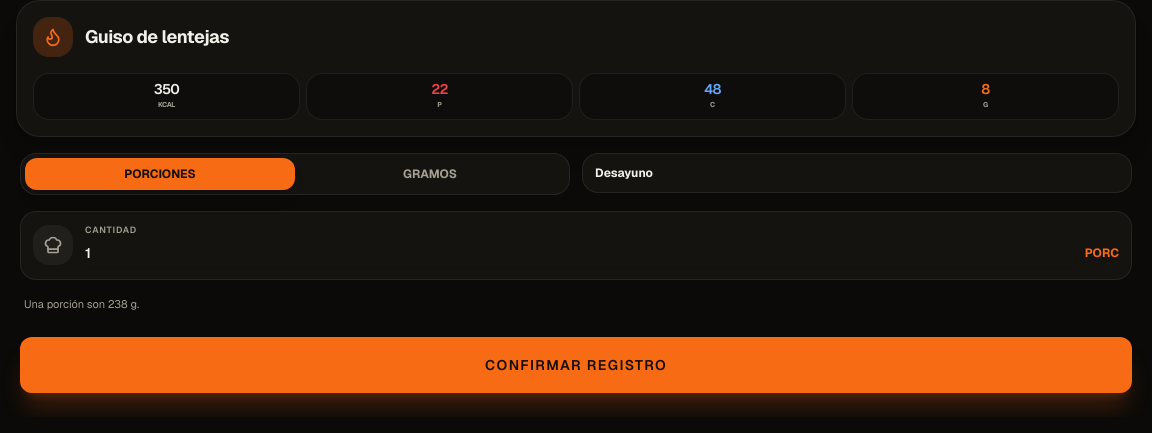
it: RecipeAmountStep › keeps the same real amount of food when the unit switches to grams
Step 1. Replace the text in the number field named "Cantidad" with "2" → (581, 253), box [85,239,1077,267]
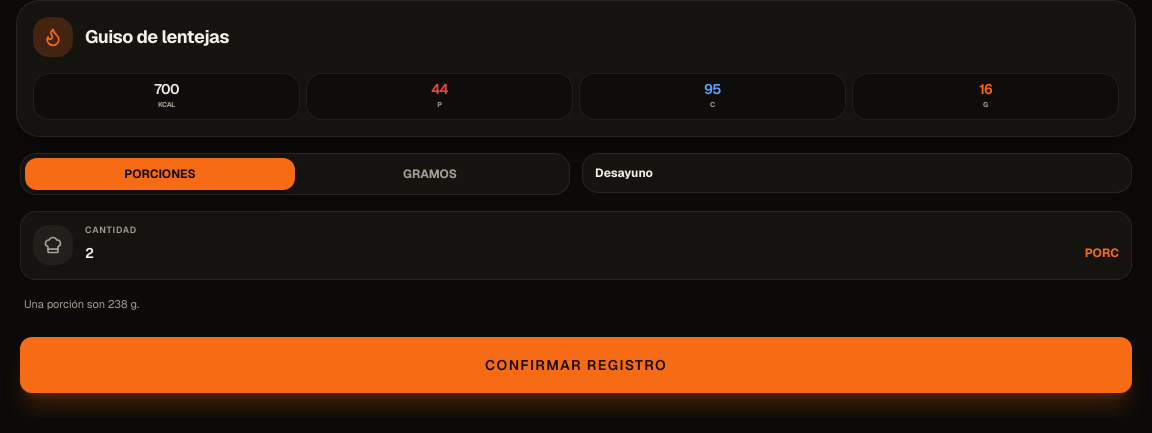
Expected: the text "700" is shown, [154,82,179,96]
Step 2. Click the button "Gramos" → (430, 174), box [295,158,565,190]
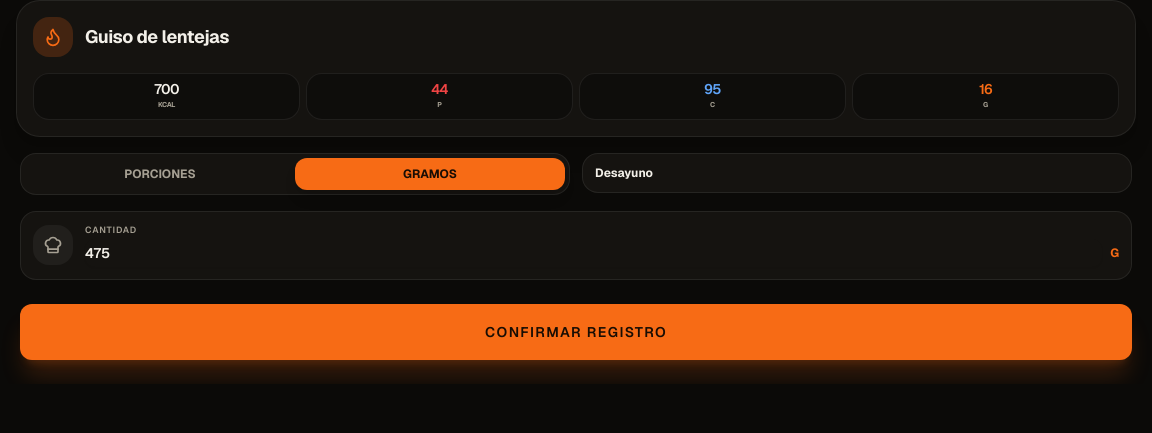
Expected: the text "700" is shown, [154,82,179,96]
Expected: the number field named "Cantidad" holds "475", [85,239,1102,267]
